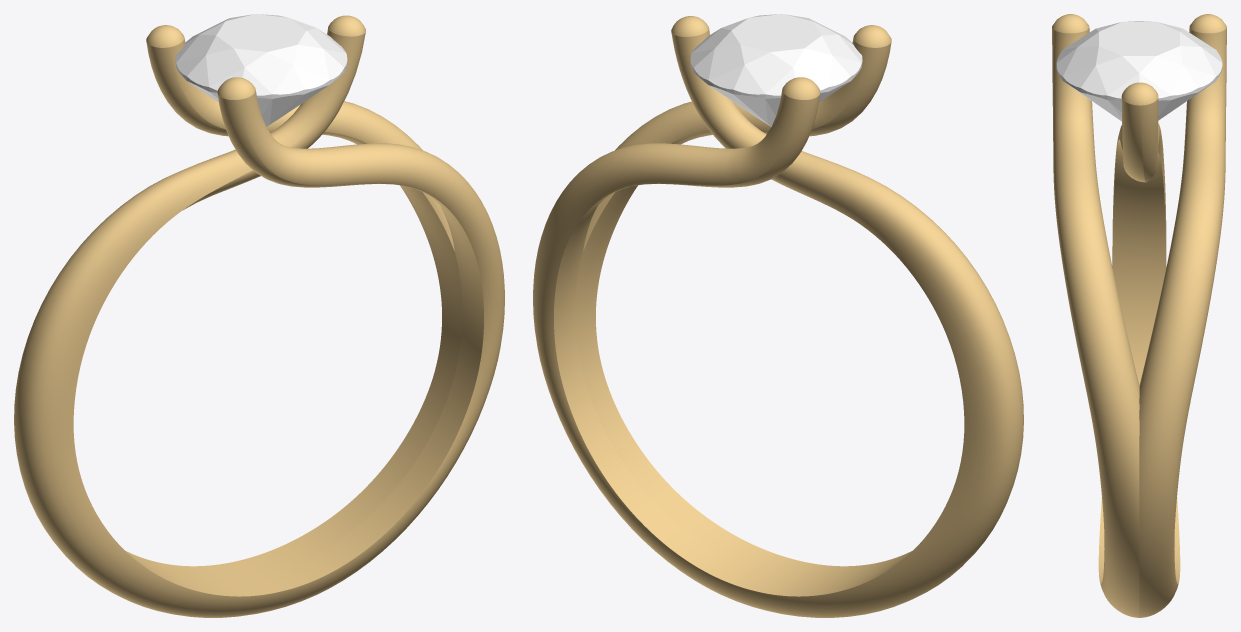
Rendered from celine-bypass-solitaire-ring.glb.
3 renders of one model, left to right at view 1: azimuth 30°, elevation 25°; view 2: azimuth 150°, elevation 25°; view 3: azimuth 270°, elevation 25°, orthographic. The views are drawn at different scales.
Visible parts, largest first — view 1: Metal 01, diamond_Mesh_0; view 2: Metal 01, diamond_Mesh_0; view 3: Metal 01, diamond_Mesh_0.
Boxes of the visible parts, bbox=[...] form: Metal 01: bbox=[14, 15, 504, 617]; diamond_Mesh_0: bbox=[175, 14, 347, 126]; Metal 01: bbox=[533, 16, 1023, 617]; diamond_Mesh_0: bbox=[690, 14, 862, 126]; Metal 01: bbox=[1052, 14, 1226, 617]; diamond_Mesh_0: bbox=[1056, 21, 1222, 121].
Bounding box in the file's own units: 2.4 × 2.77 × 0.7917.
